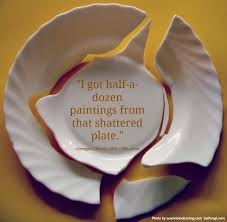glass: (4, 3, 145, 206), (41, 29, 168, 173), (141, 15, 224, 170), (111, 167, 191, 221)
